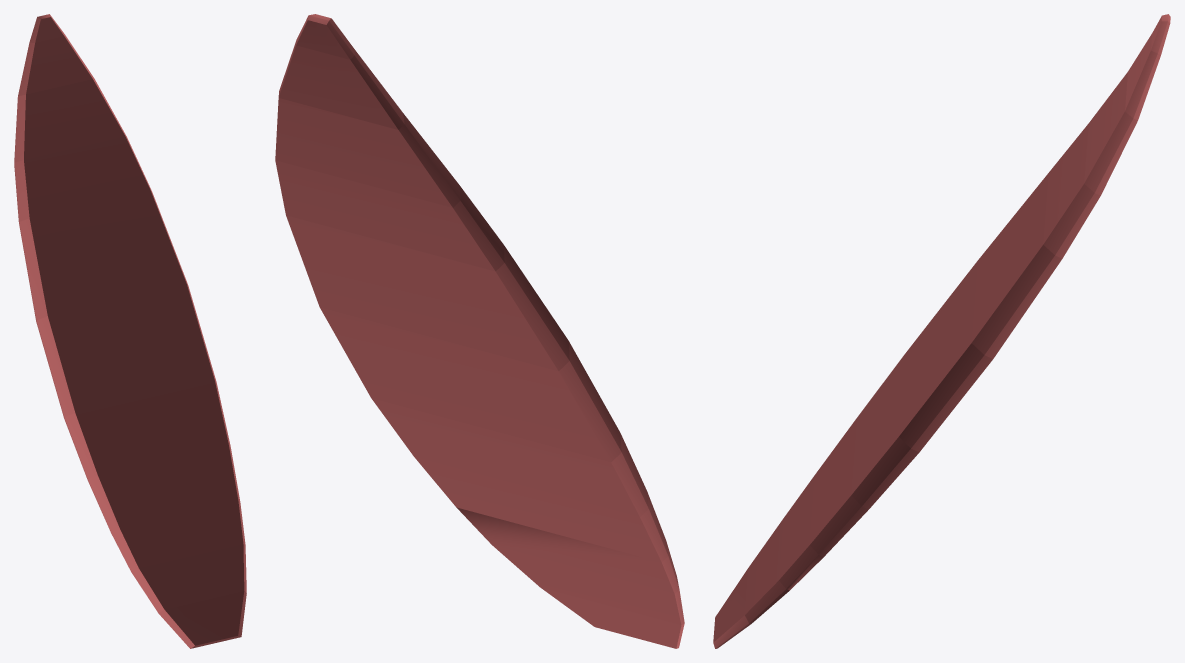
File: surfboard.fbx
3 views of the same model, side by side, from view 1: azimuth 30°, elevation 25°; view 2: azimuth 150°, elevation 25°; view 3: azimuth 270°, elevation 25° (orthographic). The views are drawn at different scales.
Parts seen in each view (by area): view 1: Surfboard; view 2: Surfboard; view 3: Surfboard.
Boxes of the visible parts, left/top/right/bottom form: Surfboard: left=14, top=14, right=246, bottom=648; Surfboard: left=275, top=14, right=684, bottom=648; Surfboard: left=713, top=14, right=1170, bottom=648.
Size of the model in its own units: 2.67 by 8.4 by 5.61.
